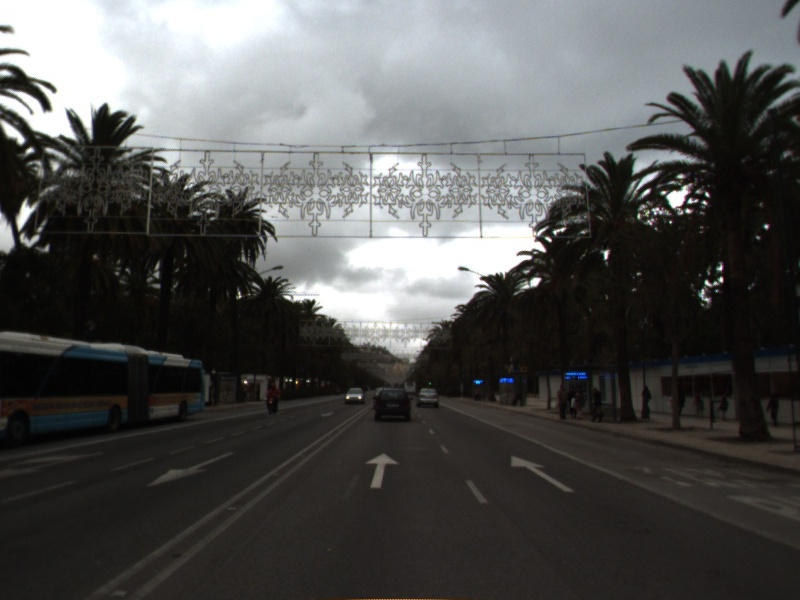STRAIGHT: (509, 453, 577, 494), (363, 451, 401, 490)
